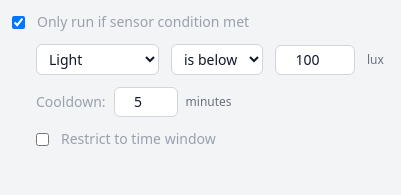
Test: PreConditionForm › Field updates › shows validation error for negative threshold
Replace the text in the number field with test id "pre-condition-threshold-0" with "-10". click: (315,60)
box: [275, 44, 355, 74]
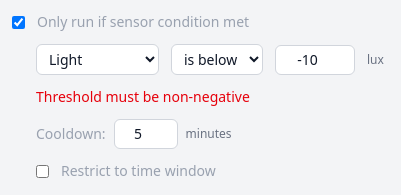
Expected: the message "Threshold must be non-negative" is shown, [36, 87, 250, 106]
